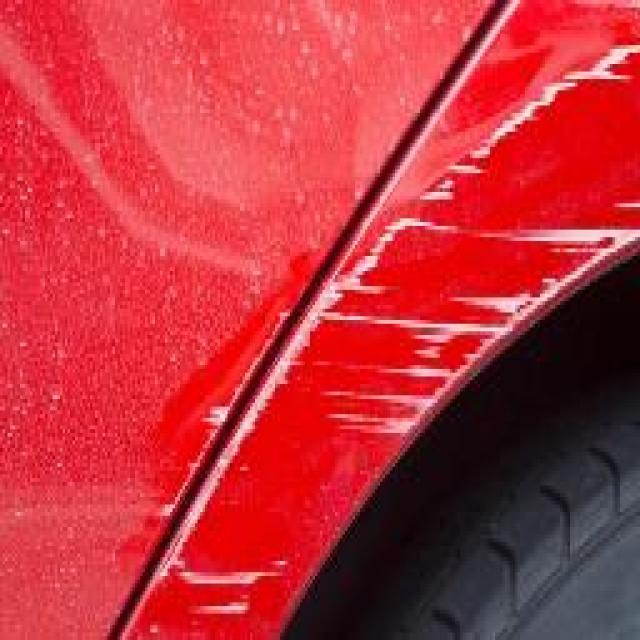Fender: (121, 10, 640, 640)
